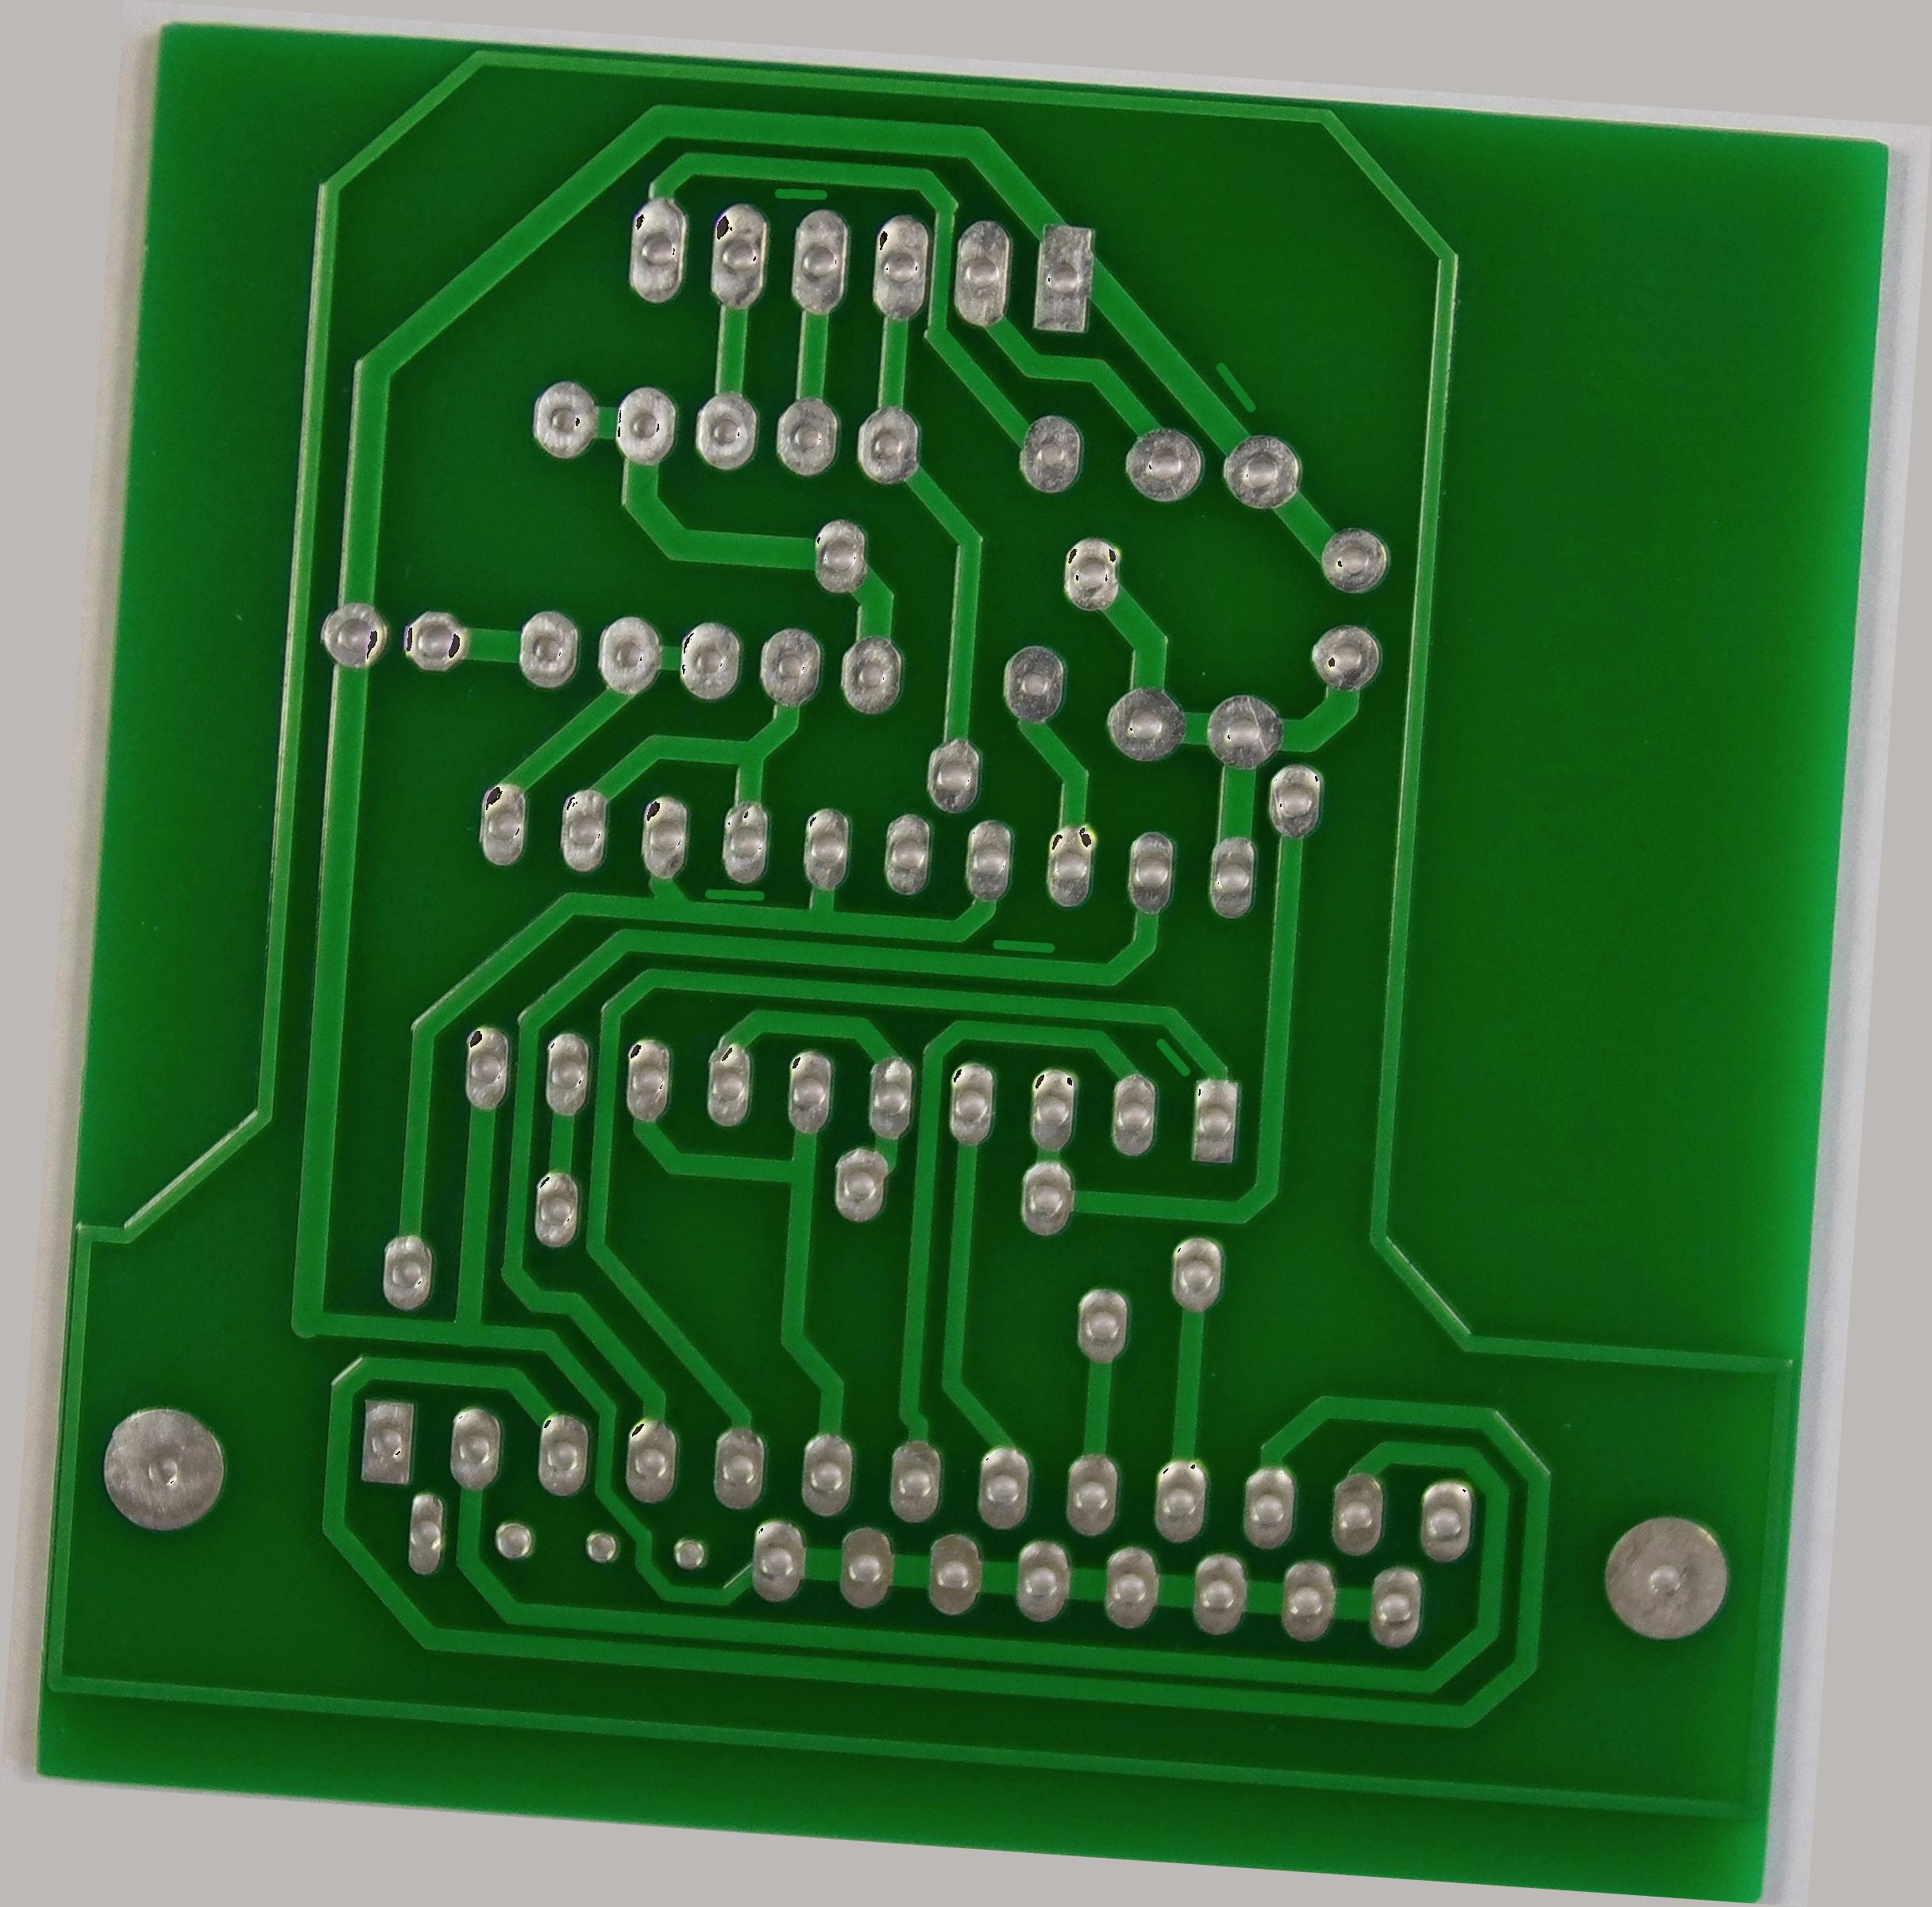spurious_copper: (1199, 349, 1267, 423), (756, 164, 841, 217), (1138, 1029, 1201, 1090), (695, 870, 775, 917), (976, 926, 1066, 966)
